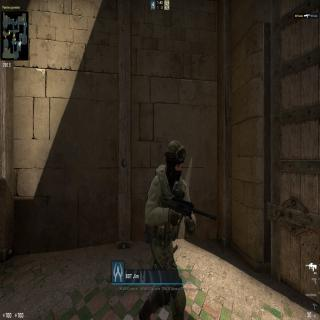CT-Head: (165, 138, 186, 185)
